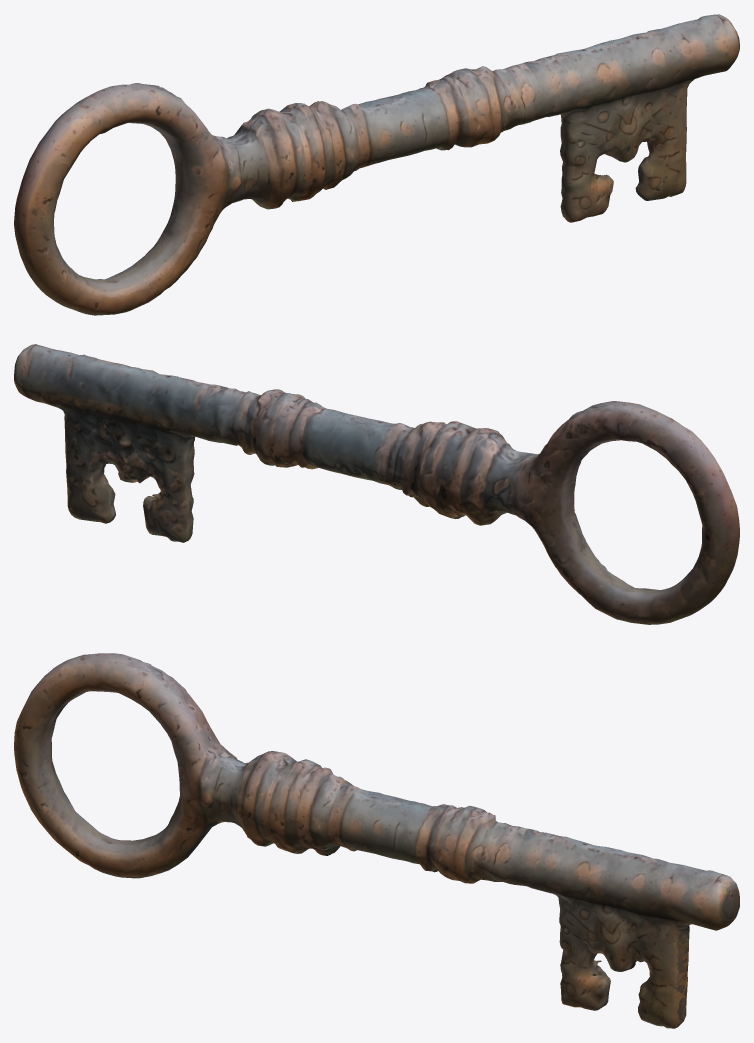
The model's file is Ancient_rusty_key_we_1027133323_refine.fbx.
3 views of the same model, one above another, from view 1: azimuth 30°, elevation 25°; view 2: azimuth 150°, elevation 25°; view 3: azimuth 330°, elevation 25° (orthographic). The views are drawn at different scales.
Visible parts, largest first — view 1: Mesh_0; view 2: Mesh_0; view 3: Mesh_0.
Boxes of the visible parts, x1,y1,x2,y2 form: Mesh_0: (14, 14, 739, 315); Mesh_0: (14, 344, 739, 624); Mesh_0: (14, 653, 739, 1028).
Size of the model in its own units: 120 by 39.11 by 13.16.
Materials: 1 (1 with a texture image).
